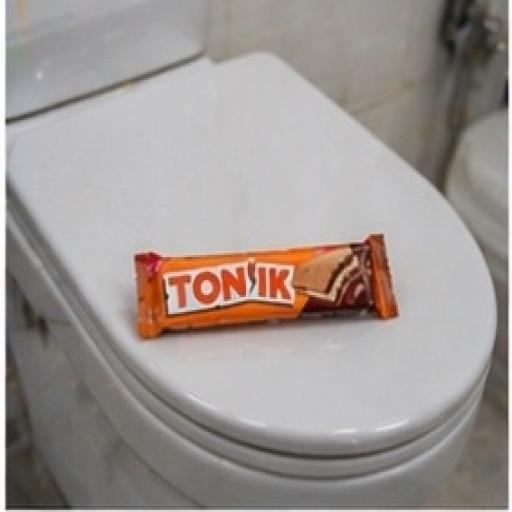tonik: (81, 137, 443, 460)
